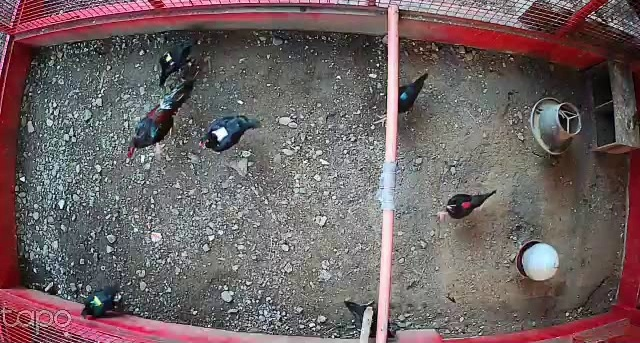Chicken: (372, 74, 430, 131), (196, 113, 261, 152), (155, 38, 201, 90), (434, 187, 500, 223), (80, 283, 125, 319)
Rooster: (125, 79, 195, 162)
Saddle_Color_Blue: (401, 92, 410, 99)
Saddle_Color_Red: (460, 201, 471, 209)
Saddle_Color_White: (212, 124, 227, 143)
Saddle_Color_Yellow: (163, 52, 174, 65)
Saddle_Color_YellowGreen: (88, 296, 101, 307)
